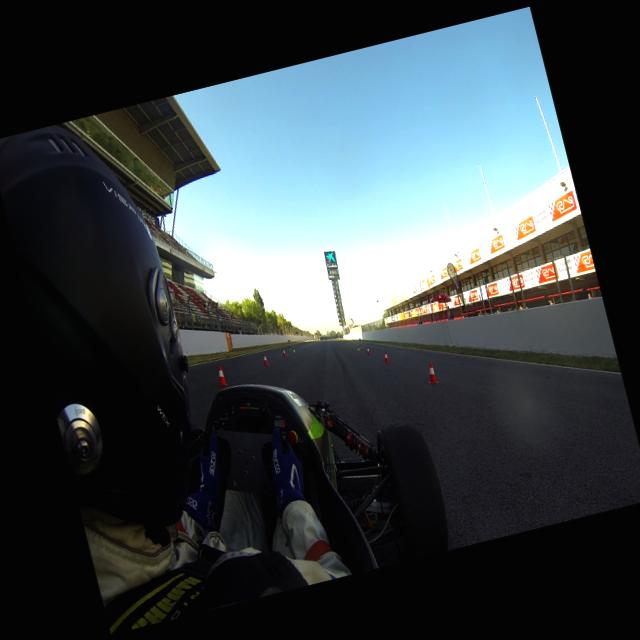orange_cone: (423, 361, 438, 386), (213, 364, 228, 386), (260, 353, 268, 366), (382, 350, 389, 364), (365, 347, 371, 356), (282, 348, 286, 357)
yellow_cone: (356, 344, 361, 351), (292, 346, 296, 352)
